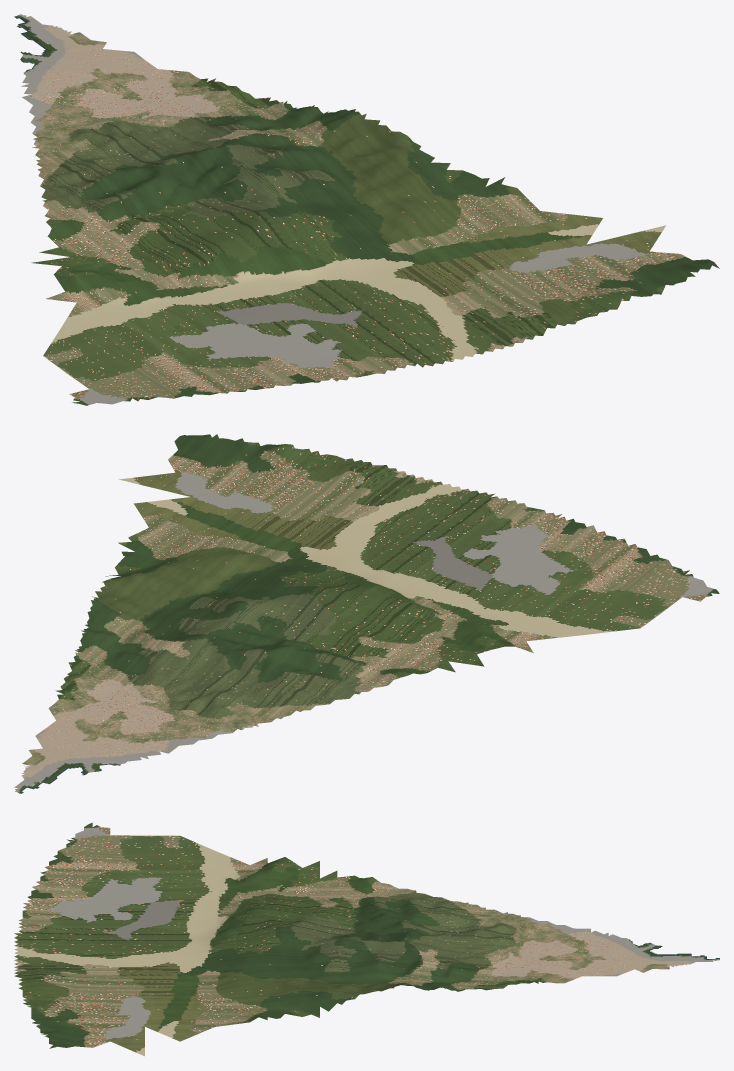
The model's file is SM_Fondale_Colline_NE_v3.fbx.
The picture shows the model from 3 angles, top to bottom: view 1: azimuth 30°, elevation 25°; view 2: azimuth 150°, elevation 25°; view 3: azimuth 270°, elevation 25°; orthographic projection. The views are drawn at different scales.
Visible parts, largest first — view 1: SM_Fondale_Colline_NE_v3; view 2: SM_Fondale_Colline_NE_v3; view 3: SM_Fondale_Colline_NE_v3.
Part boxes in pixels (left/top/right/bottom): SM_Fondale_Colline_NE_v3: left=14, top=14, right=719, bottom=405; SM_Fondale_Colline_NE_v3: left=14, top=434, right=719, bottom=793; SM_Fondale_Colline_NE_v3: left=14, top=822, right=719, bottom=1056.
Bounding box in the file's own units: 756000 × 969000 × 32931.
1 material, 1 textured.
